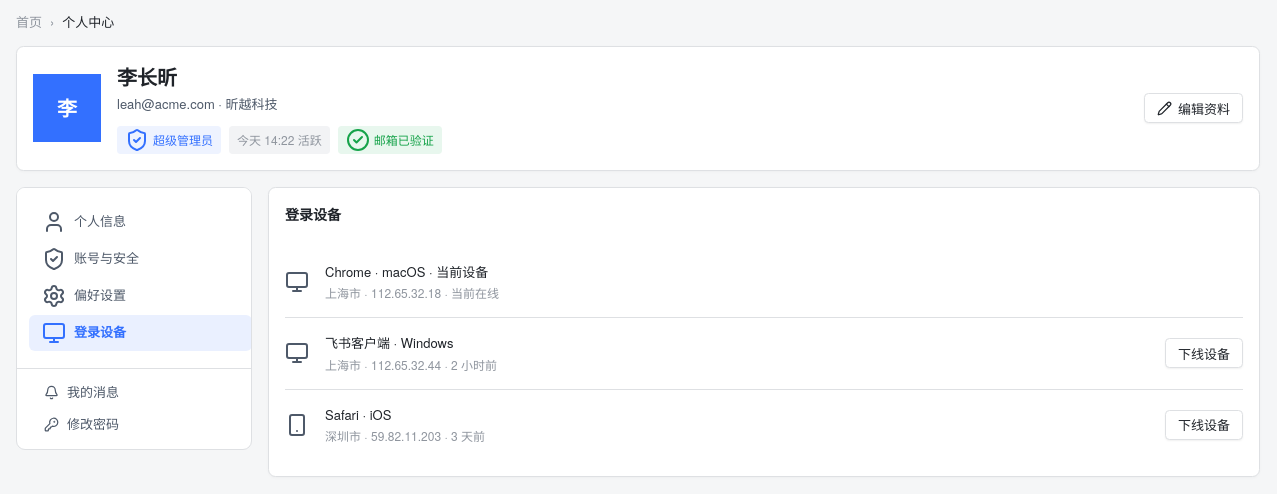
Test: 登录设备页可下线非当前设备
Expected: the text "Chrome · macOS · 当前设备" is shown, top-left (325, 262), bottom-right (488, 281)
Click the button "下线设备" in the row of "2 小时前": (1204, 353) top-left (1165, 338), bottom-right (1243, 368)
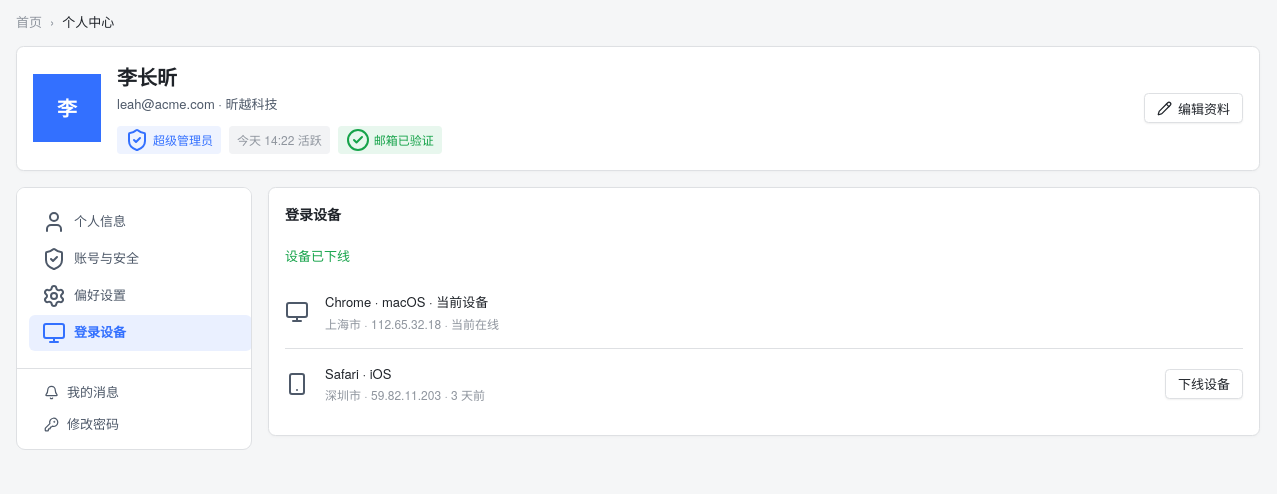
Now the text "设备已下线" is shown, box top-left (285, 246), bottom-right (350, 265)
